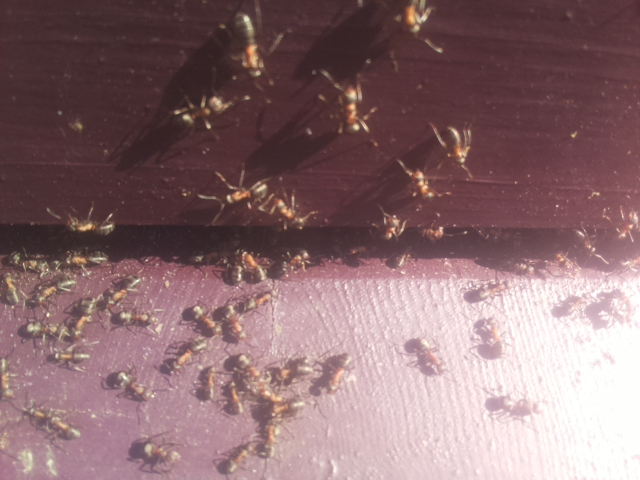ant: (224, 4, 279, 84), (388, 0, 455, 61), (166, 87, 237, 134), (392, 150, 443, 208), (430, 117, 481, 173), (157, 333, 212, 377), (333, 77, 371, 138), (407, 330, 449, 383), (264, 193, 320, 232), (25, 273, 79, 311), (106, 368, 159, 406), (177, 299, 222, 341), (32, 407, 83, 444), (477, 390, 537, 421), (213, 441, 260, 479), (320, 349, 356, 398), (134, 437, 184, 472), (216, 178, 274, 208), (229, 349, 271, 390), (101, 272, 146, 308), (59, 212, 117, 239), (568, 225, 607, 264), (478, 311, 504, 364), (190, 360, 215, 411), (470, 276, 516, 303), (46, 345, 92, 371), (110, 306, 156, 332), (254, 421, 282, 461), (223, 299, 246, 347), (377, 206, 405, 243), (240, 248, 271, 281), (22, 318, 64, 340), (0, 267, 21, 307), (615, 206, 636, 245), (226, 374, 243, 419), (9, 251, 41, 272)
